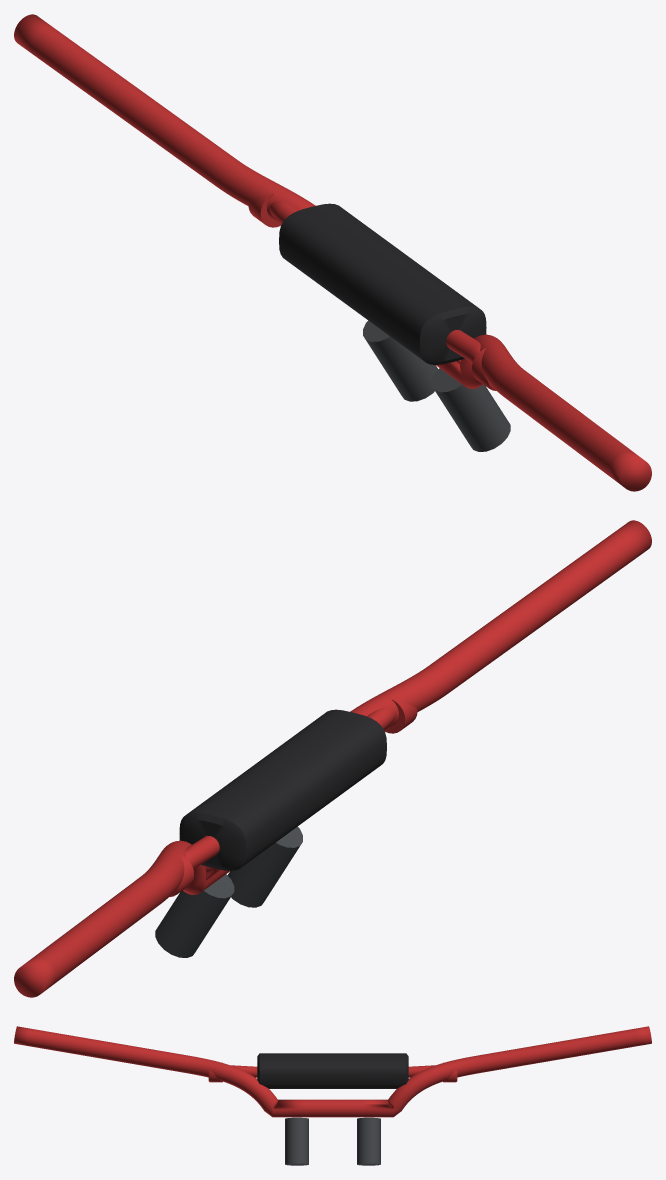
3 renders of one model, top to bottom at view 1: azimuth 30°, elevation 25°; view 2: azimuth 150°, elevation 25°; view 3: azimuth 270°, elevation 25°, orthographic. The views are drawn at different scales.
Visible parts, largest first — view 1: bar_mx; view 2: bar_mx; view 3: bar_mx.
Part boxes in pixels (x1,y1,x2,y2): bar_mx: [14, 14, 651, 491]; bar_mx: [14, 520, 651, 997]; bar_mx: [14, 1026, 651, 1165].
Size of the model in its own units: 0.1177 by 0.1541 by 0.7999.
